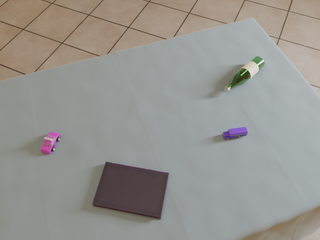book: (92, 162, 169, 219)
bottle: (224, 57, 264, 93)
toy_car: (41, 132, 60, 154), (223, 127, 248, 139)
